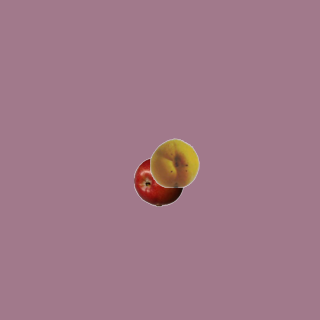Apple Braeburn: (133, 156, 183, 206)
Peach 2: (149, 137, 199, 187)
